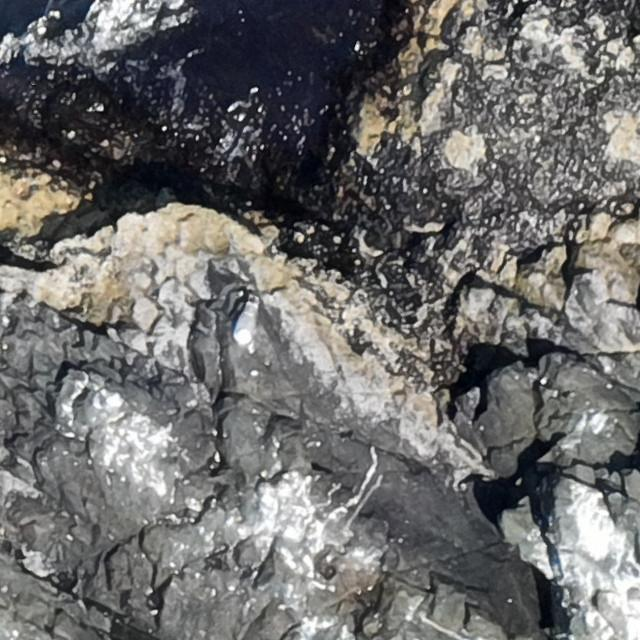umineko: (234, 292, 262, 348)
